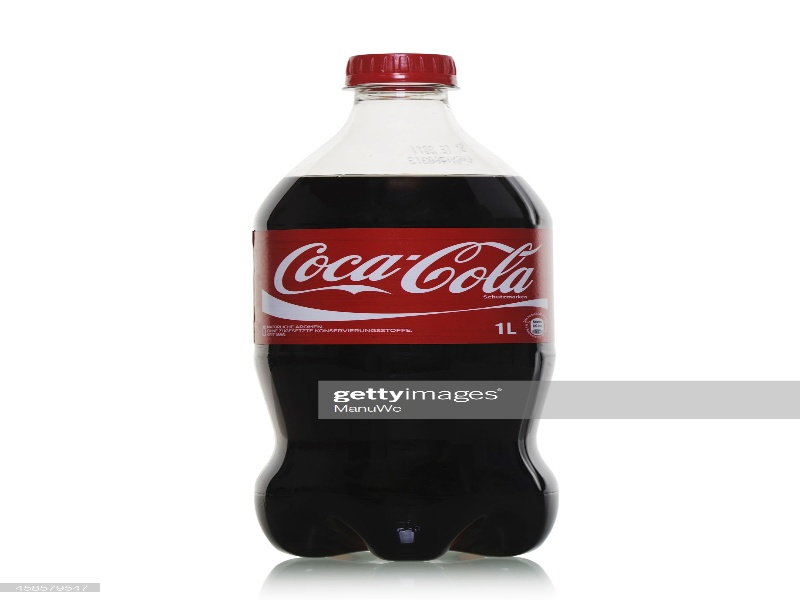coke-bottle-2l: (254, 48, 550, 559)
